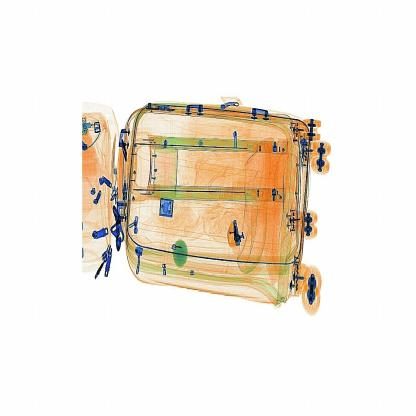pliers: (223, 217, 250, 251)
